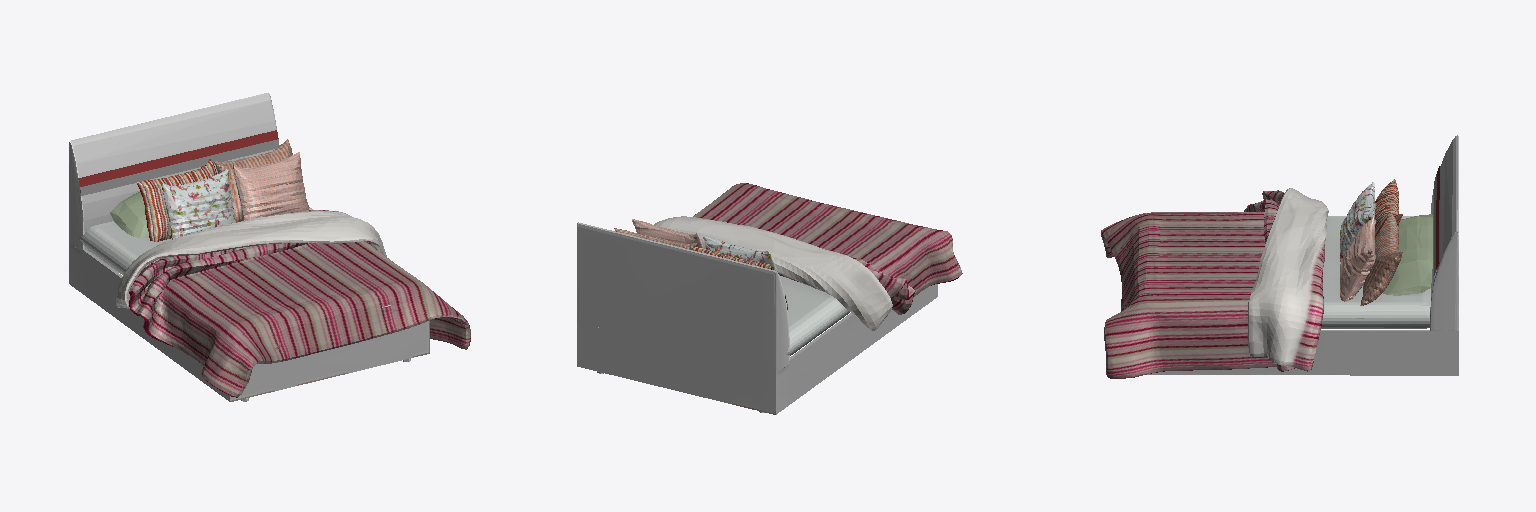
The picture shows the model from 3 angles: view 1: azimuth 30°, elevation 25°; view 2: azimuth 150°, elevation 25°; view 3: azimuth 270°, elevation 25°; orthographic projection.
Parts seen in each view (by area): view 1: solid_011, solid_004, solid_008, solid_007, solid_001, solid_005, solid_009, solid_010, solid_006, solid_003; view 2: solid_004, solid_011, solid_001, solid_007, solid_008; view 3: solid_011, solid_004, solid_001, solid_003, solid_006, solid_008, solid_007, solid_005.
Part boxes in pixels (x1,y1,x2,y2): solid_011: (116,210,470,397); solid_004: (69,93,429,401); solid_008: (233,152,308,220); solid_007: (161,169,235,239); solid_001: (79,208,390,307); solid_005: (137,158,216,241); solid_009: (78,130,278,186); solid_010: (80,139,279,195); solid_006: (214,139,309,222); solid_003: (110,173,217,237); solid_004: (577,222,937,414); solid_011: (654,183,962,330); solid_001: (779,275,849,355); solid_007: (703,237,775,270); solid_008: (632,219,702,247); solid_011: (1101,188,1328,378); solid_004: (1147,135,1458,375); solid_001: (1321,216,1430,328); solid_003: (1383,214,1432,295); solid_006: (1360,213,1402,305); solid_008: (1340,217,1375,301); solid_007: (1340,182,1375,261); solid_005: (1375,179,1402,236).
Size of the model in its own units: 1.72 by 0.9099 by 2.
Materials: 1 (1 with a texture image).